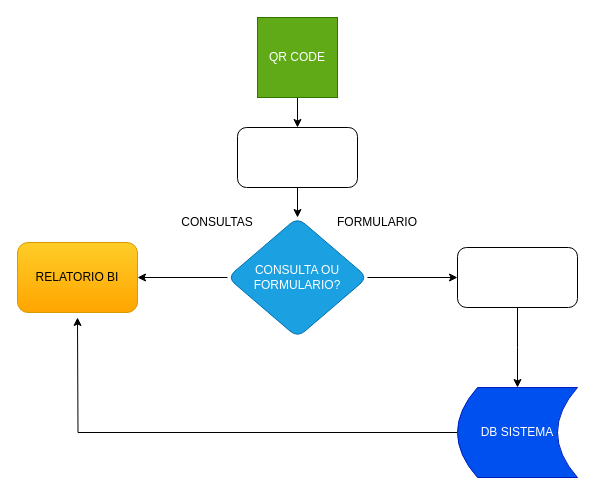
The diagram is 595 pixels wide and 495 high, and some of its shapes have lost their labels. The shapes that lost their labels are listed below. From the top down, each one's centre as x and y in pixels, then its label:
(297,157): SISTEMA
(517,277): QUESTIONARIO
